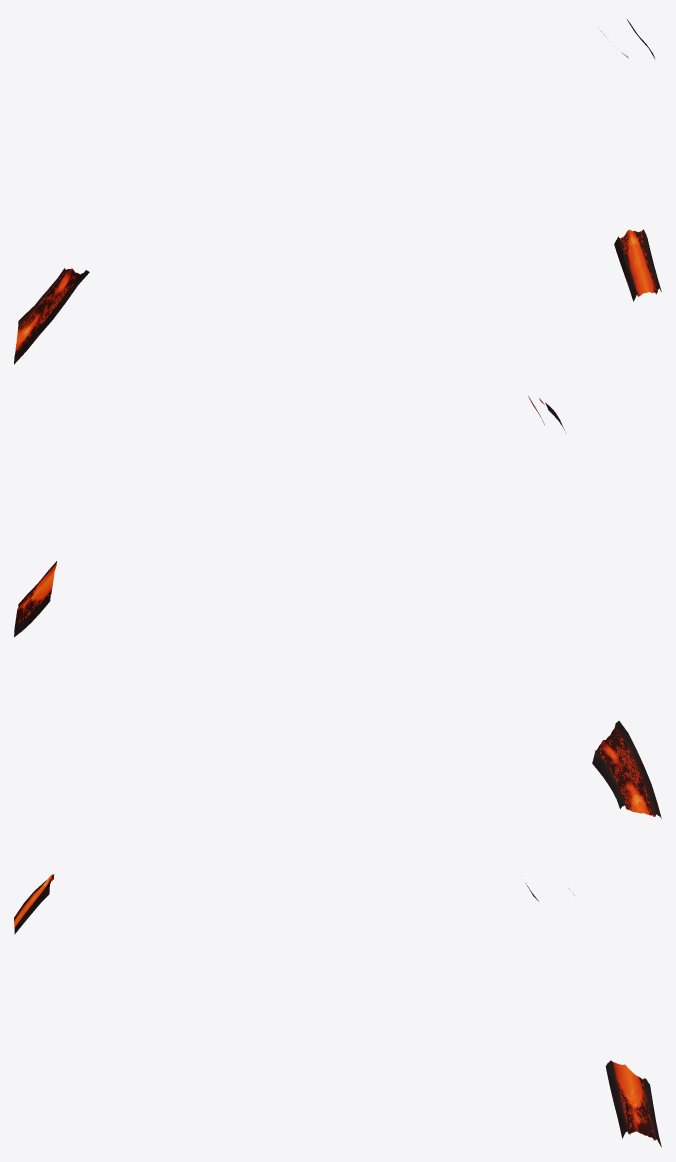
Rendered from lava_seg_7.glb.
The picture shows the model from 3 angles, top to bottom: view 1: azimuth 30°, elevation 25°; view 2: azimuth 150°, elevation 25°; view 3: azimuth 270°, elevation 25°; orthographic projection. The views are drawn at different scales.
Visible parts, largest first — view 1: seg; view 2: seg; view 3: seg.
Part boxes in pixels (x1,y1,x2,y2): seg: (14,19,661,364); seg: (14,396,661,818); seg: (14,874,661,1147).
Bounding box in the file's own units: 95.88 × 28.89 × 77.32.
